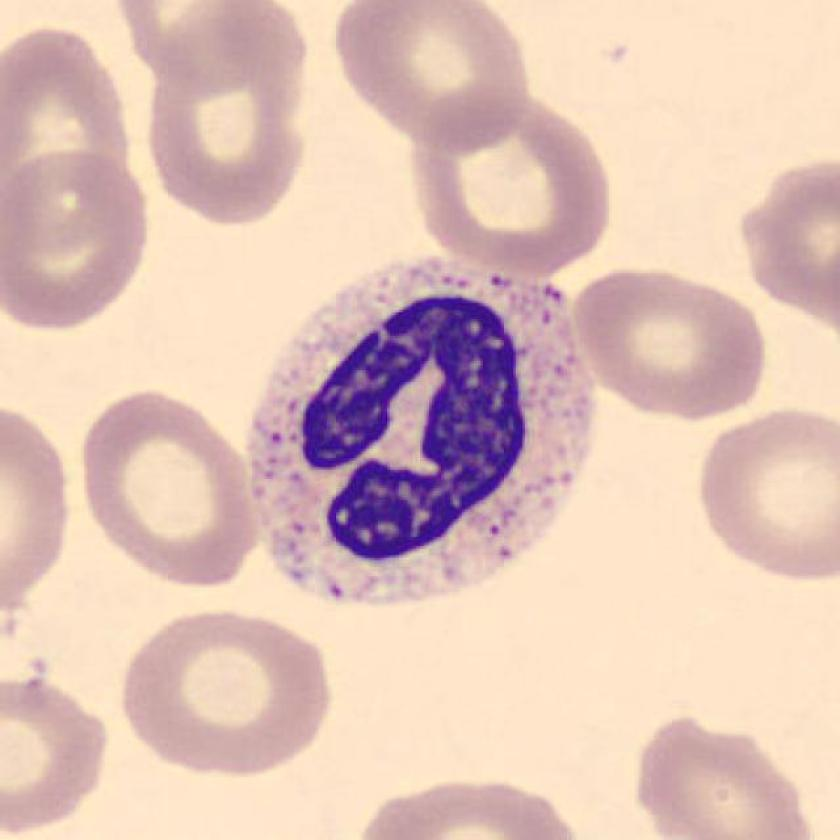neutrophil: (243, 260, 602, 605)
